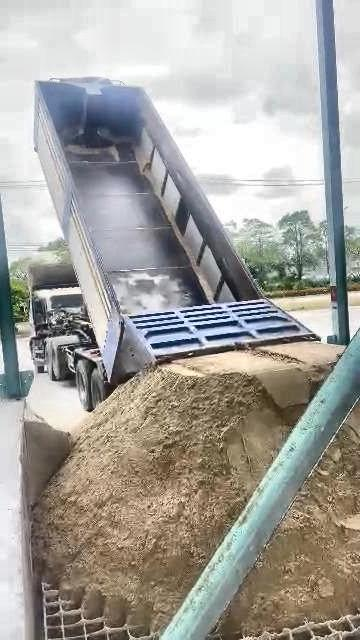sand: (35, 343, 337, 629), (220, 407, 360, 633), (22, 408, 71, 507)
